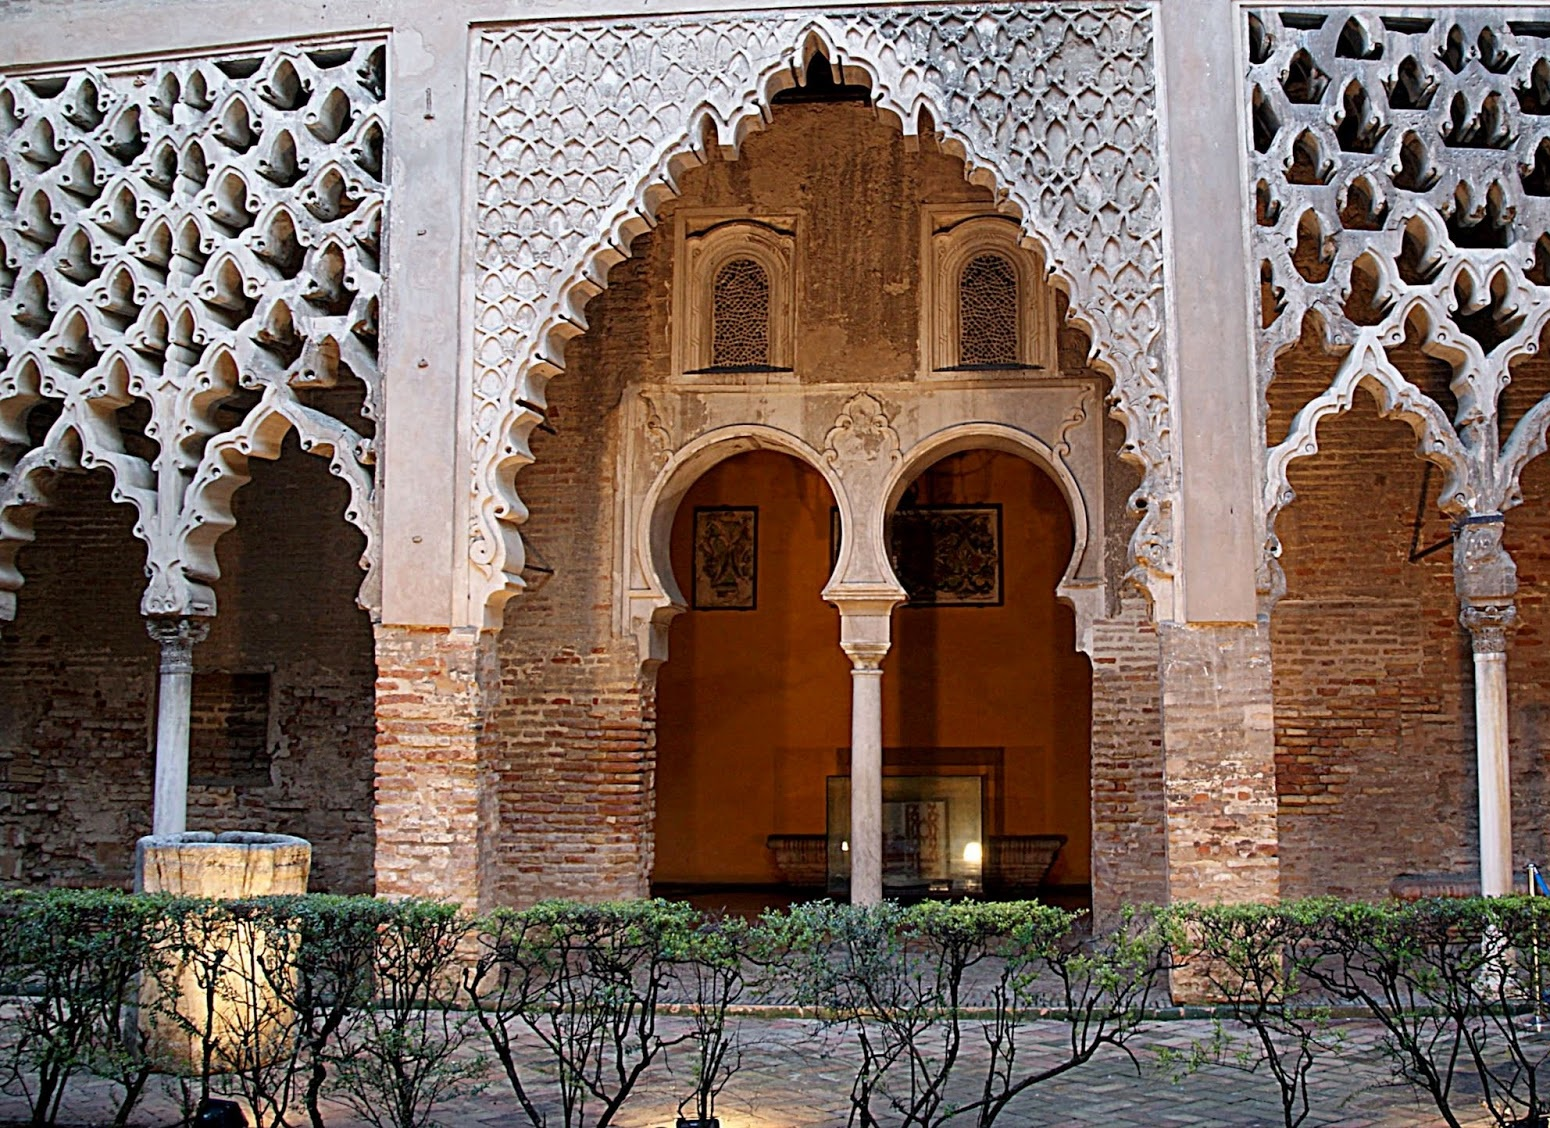arco-herradura: (864, 411, 1102, 643), (629, 414, 868, 633)
arco-lobulado: (1262, 349, 1490, 665), (173, 389, 387, 681), (1, 411, 174, 683)
